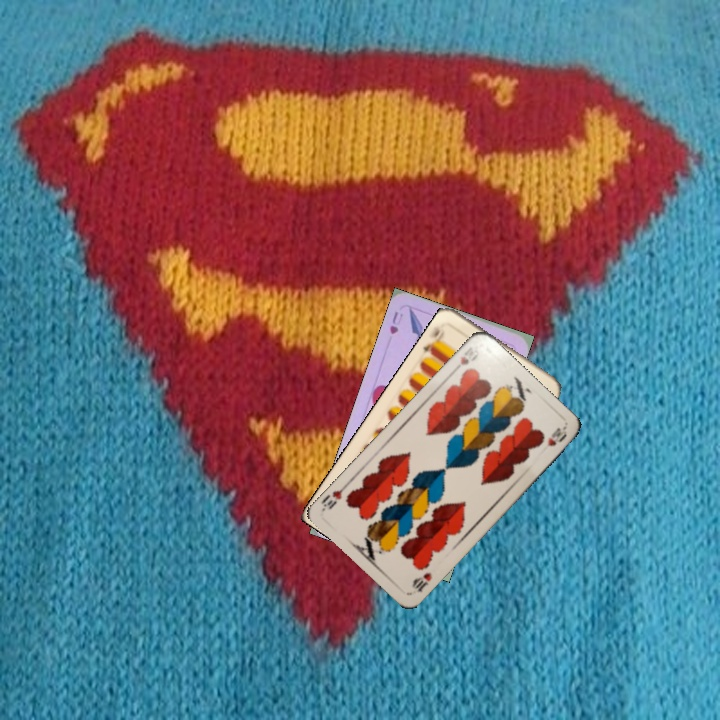E10: (419, 319, 447, 358)
H10: (449, 343, 482, 375), (408, 568, 435, 595)
HU: (385, 307, 406, 337)
